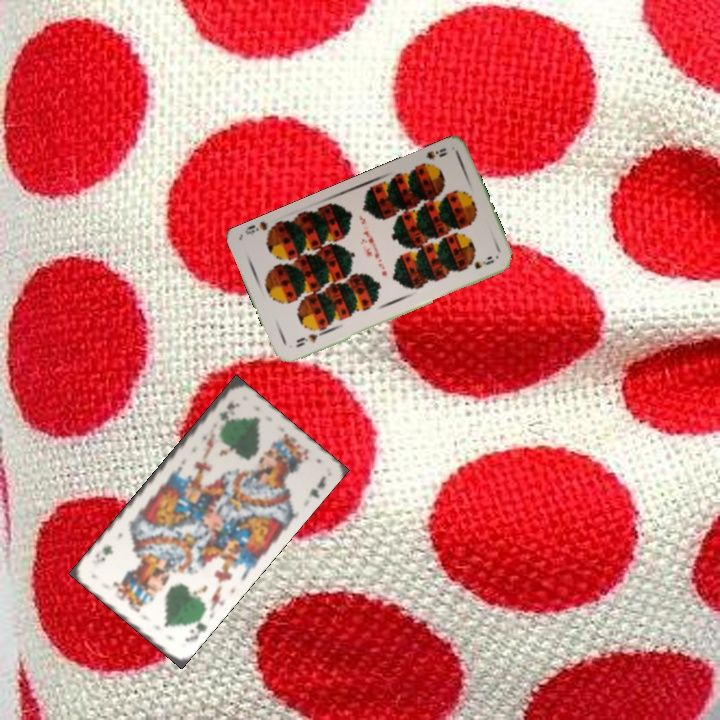GK: (180, 613, 209, 645), (215, 396, 241, 424)
S9: (415, 144, 450, 170), (292, 328, 325, 350)
